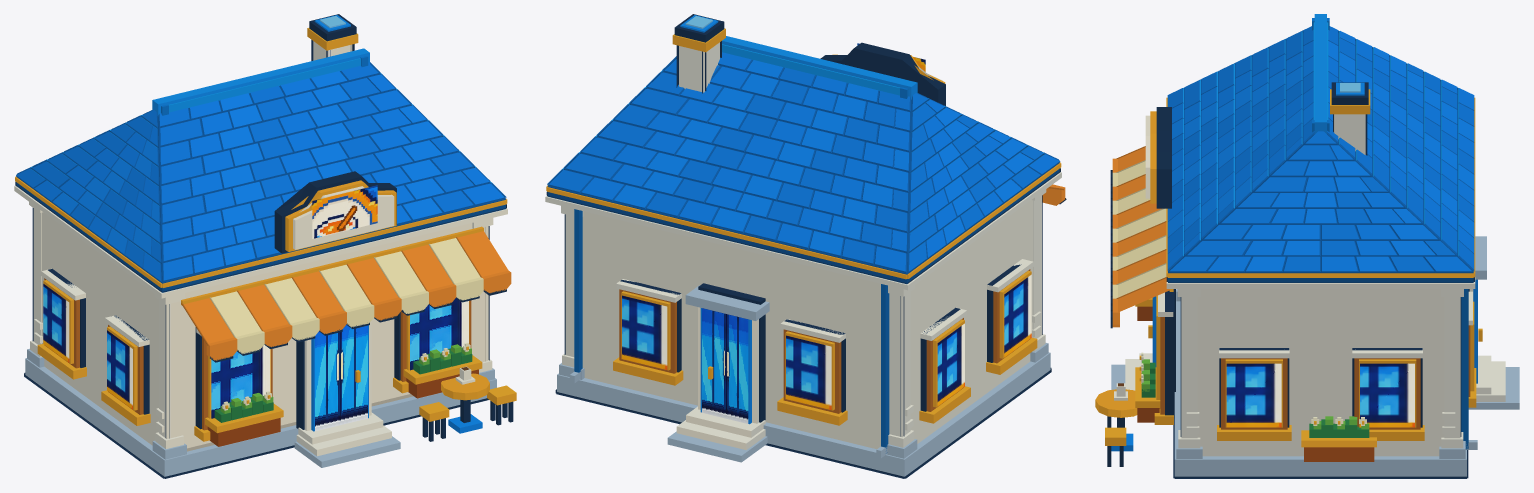
The picture shows the model from 3 angles, left to right: view 1: azimuth 30°, elevation 25°; view 2: azimuth 150°, elevation 25°; view 3: azimuth 270°, elevation 25°; orthographic projection. The views are drawn at different scales.
Parts seen in each view (by area): view 1: B08 社区餐馆; view 2: B08 社区餐馆; view 3: B08 社区餐馆.
Boxes of the visible parts, x1=… form: B08 社区餐馆: x1=14, y1=14, x2=516, y2=478; B08 社区餐馆: x1=545, y1=14, x2=1066, y2=478; B08 社区餐馆: x1=1095, y1=14, x2=1519, y2=478.
Size of the model in its own units: 7.01 by 6.33 by 6.95.
Materials: 2 (1 with a texture image).
